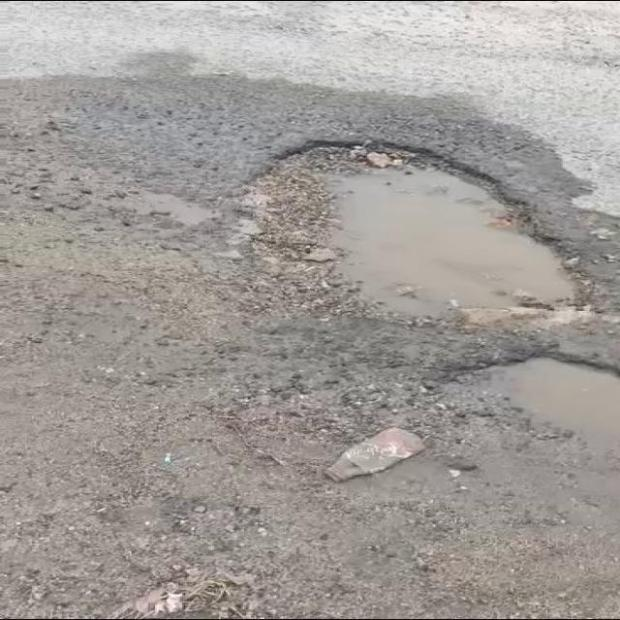lubang: (228, 146, 591, 327), (456, 358, 619, 500)
